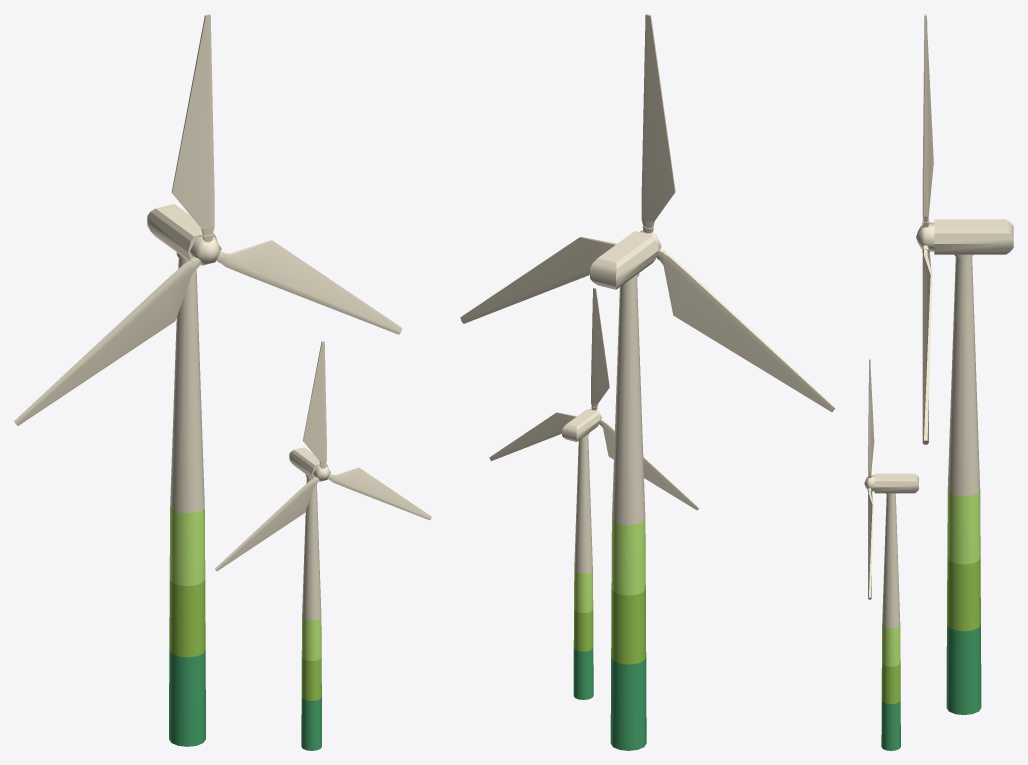
File: M_Windmill_Var2_2.fbx
3 renders of one model, left to right at view 1: azimuth 30°, elevation 25°; view 2: azimuth 150°, elevation 25°; view 3: azimuth 270°, elevation 25°, orthographic. The views are drawn at different scales.
Parts seen in each view (by area): view 1: M_Windmill_Var2_2; view 2: M_Windmill_Var2_2; view 3: M_Windmill_Var2_2.
Part boxes in pixels (x1,y1,x2,y2): M_Windmill_Var2_2: (14,14,431,750); M_Windmill_Var2_2: (460,14,835,750); M_Windmill_Var2_2: (864,14,1013,750).
Size of the model in its own units: 2.13 by 3.89 by 0.7606.
